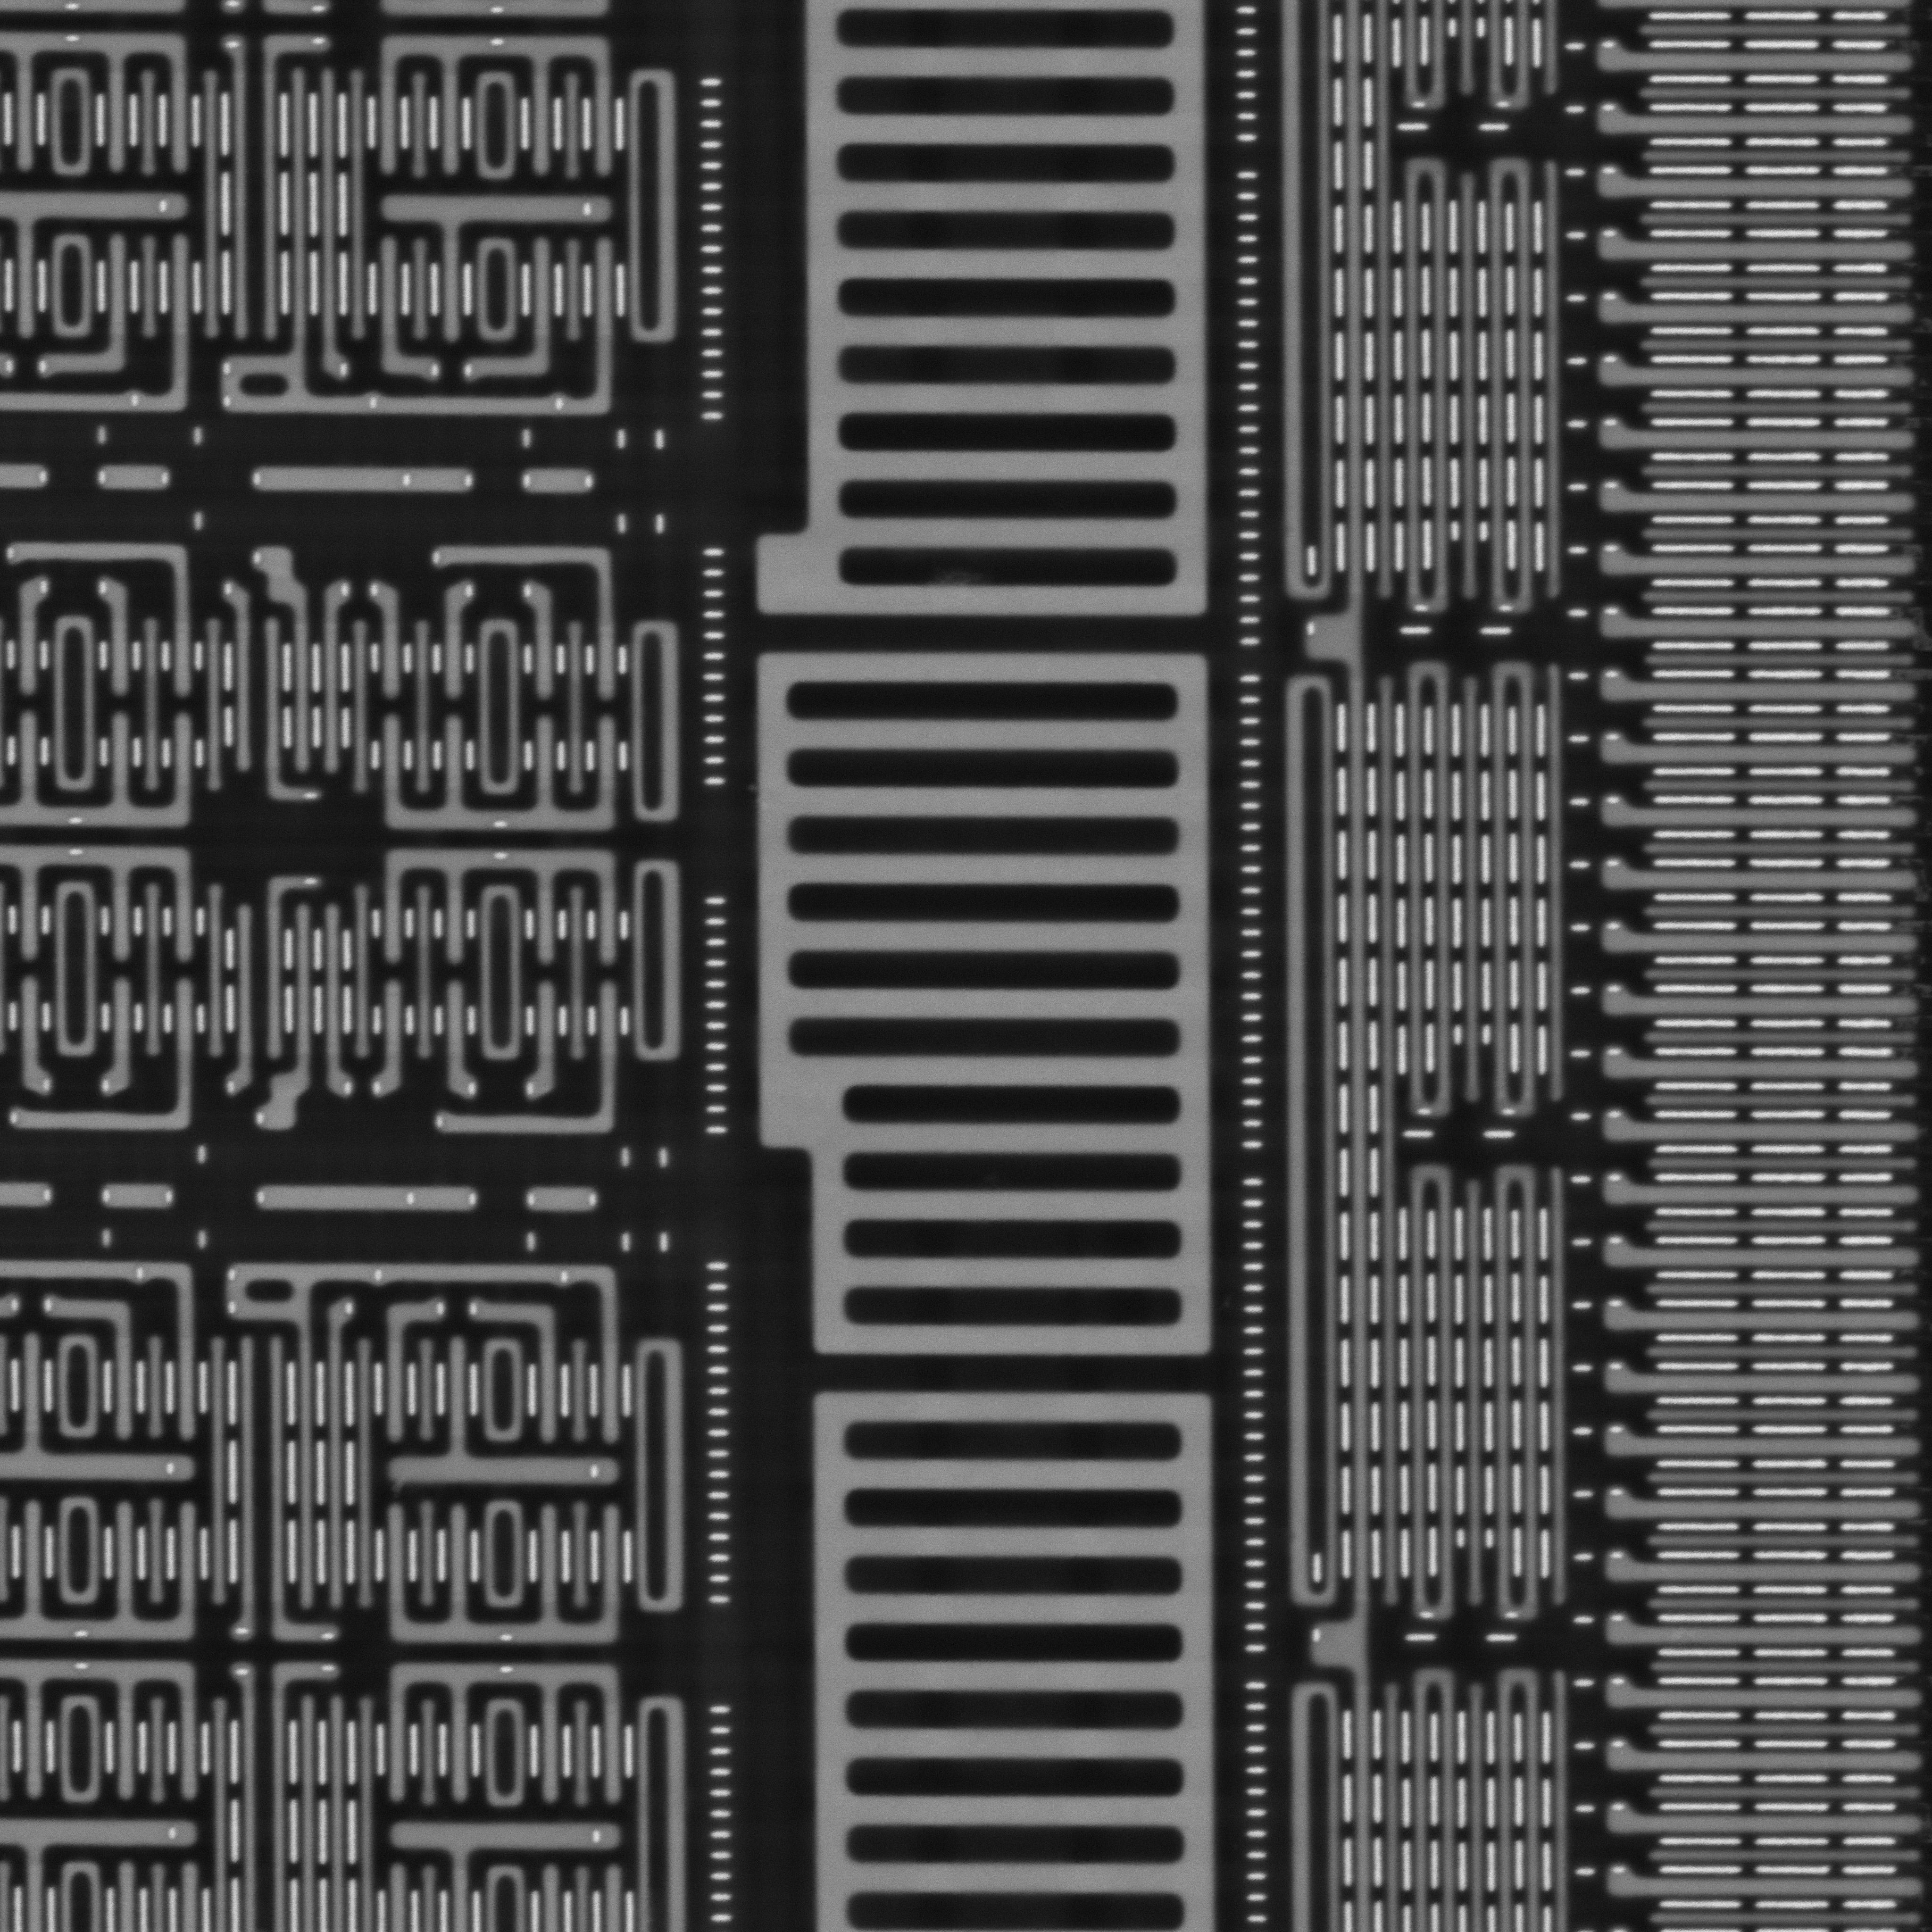doubleGate: (1483, 1162, 1555, 1624), (1476, 651, 1546, 1123), (1398, 1166, 1468, 1626), (1474, 152, 1543, 623), (1391, 154, 1460, 619), (1396, 662, 1463, 1125)
multiGate: (375, 1656, 635, 1817), (364, 34, 626, 186), (375, 1500, 633, 1647)
resistor: (257, 1184, 479, 1221), (248, 467, 478, 494), (99, 1182, 186, 1214), (524, 1185, 610, 1214), (92, 465, 175, 494), (518, 465, 602, 494)
singleGate: (1596, 665, 1928, 718), (1596, 163, 1927, 216), (253, 902, 324, 1148), (1591, 414, 1927, 465), (1591, 605, 1923, 655), (1596, 479, 1927, 529), (1596, 99, 1930, 147), (465, 1297, 570, 1449), (1603, 39, 1920, 87), (467, 234, 563, 389), (1587, 226, 1923, 271), (313, 1297, 359, 1617), (1594, 290, 1923, 334), (1592, 543, 1930, 586), (364, 234, 444, 380), (375, 1297, 451, 1449), (317, 895, 357, 1106), (94, 573, 145, 702), (4, 977, 57, 1097), (517, 580, 566, 708), (432, 975, 479, 1104), (430, 573, 476, 706), (0, 568, 48, 694), (101, 971, 143, 1097), (373, 975, 416, 1099), (525, 984, 570, 1102)
